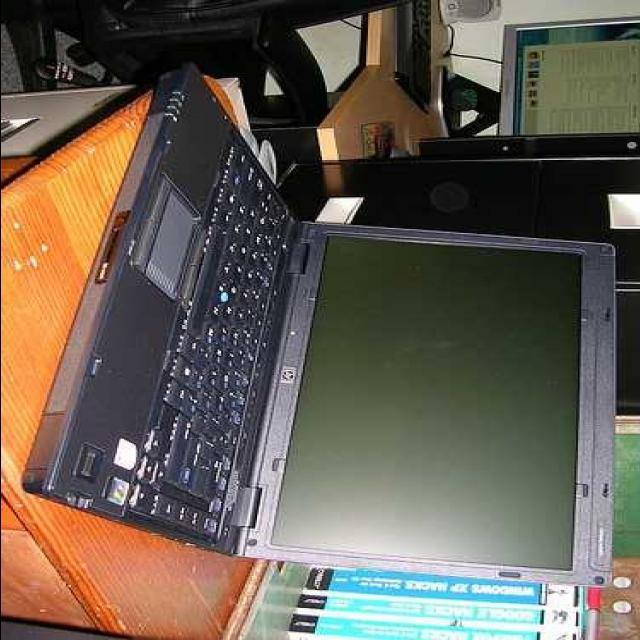laptop: (33, 115, 616, 588)
